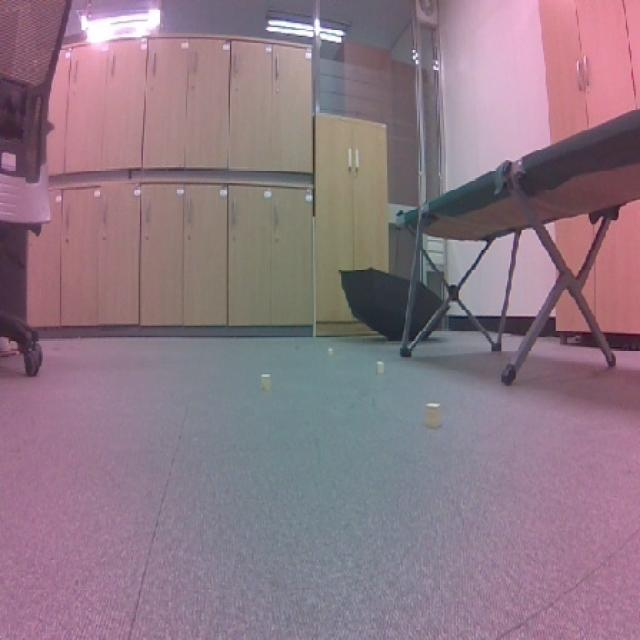obstacle: (421, 399, 445, 435)
